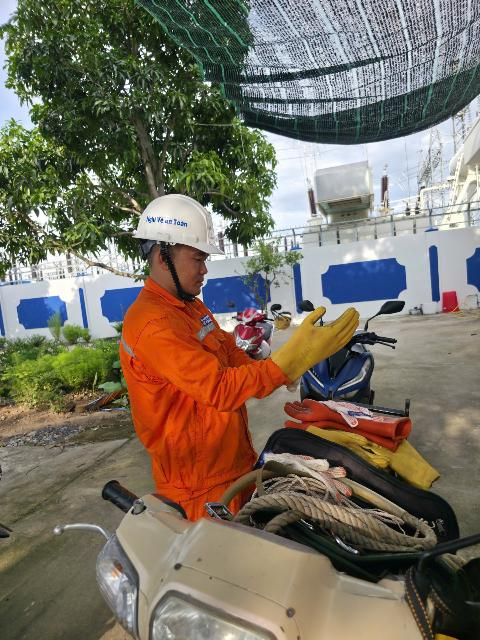gloves: (263, 298, 378, 385), (285, 380, 420, 450)
helmet: (112, 182, 241, 271)
